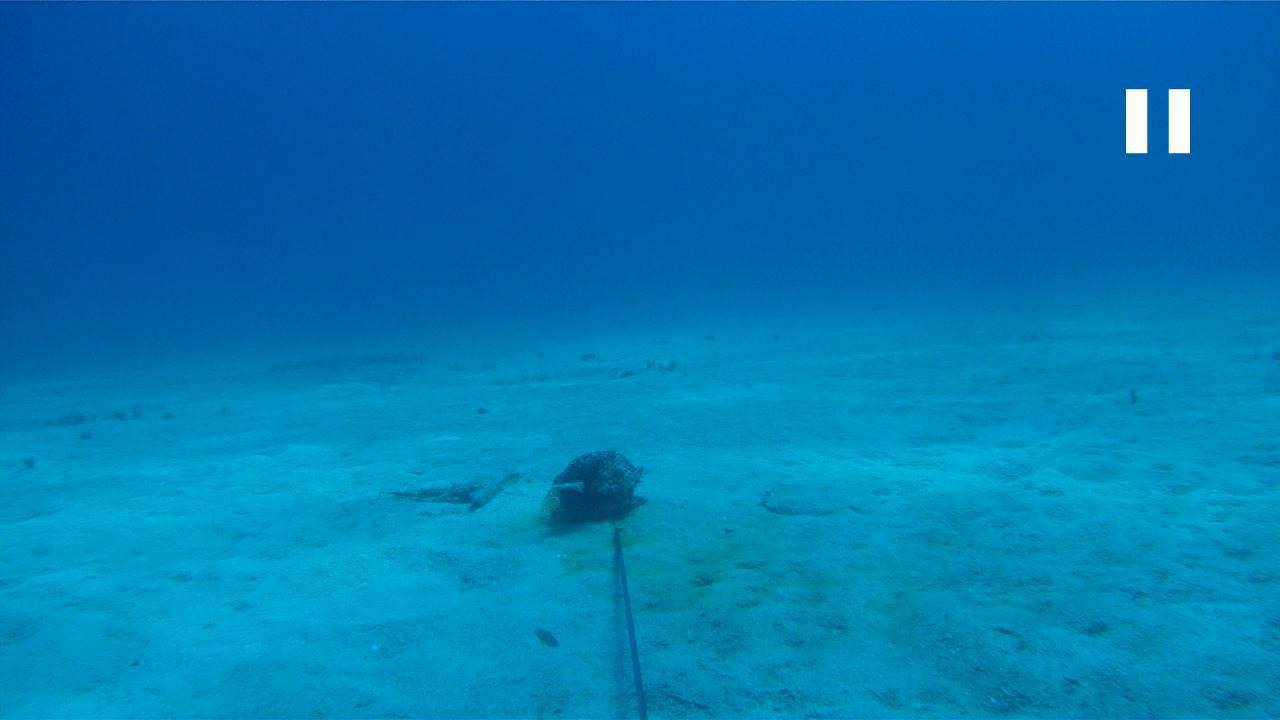bothus: (758, 478, 881, 518)
